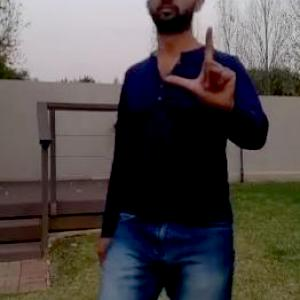land_hand: (160, 20, 237, 112)
